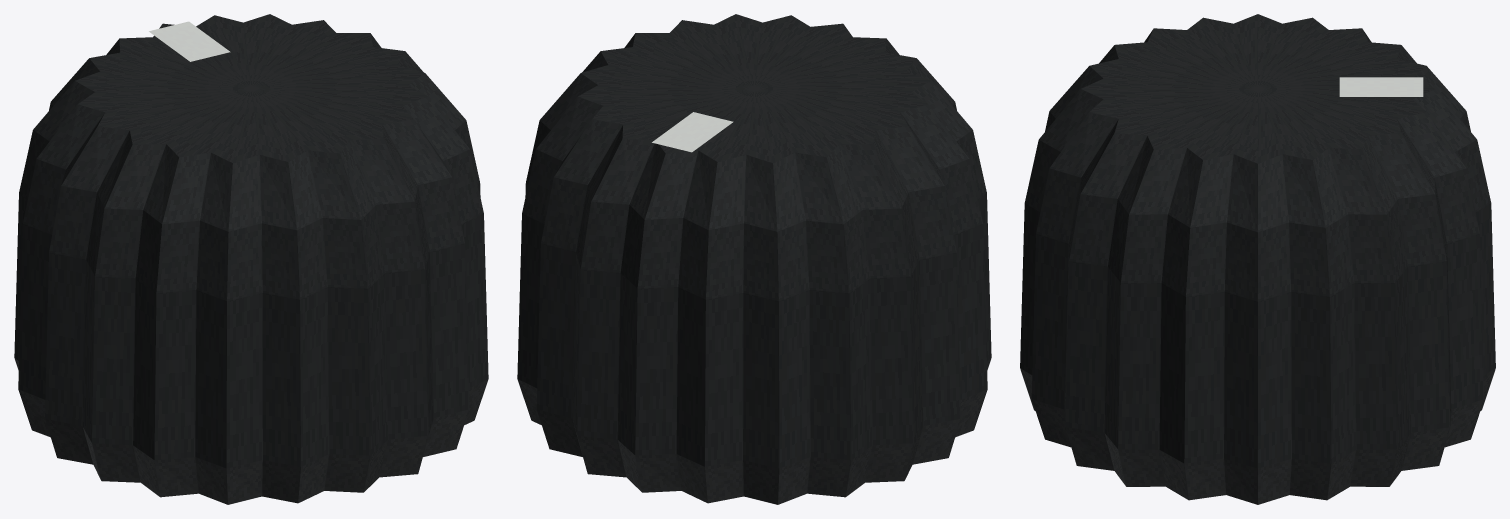
The model's file is knob_inner.obj.
3 views of the same model, side by side, from view 1: azimuth 30°, elevation 25°; view 2: azimuth 150°, elevation 25°; view 3: azimuth 270°, elevation 25° (orthographic).
Visible parts, largest first — view 1: pedal; view 2: pedal; view 3: pedal.
Part boxes in pixels (<box>): pedal: <box>14,14,488,504</box>; pedal: <box>517,14,991,504</box>; pedal: <box>1020,14,1495,504</box>.
Size of the model in its own units: 0.0638 by 0.0477 by 0.0638.
